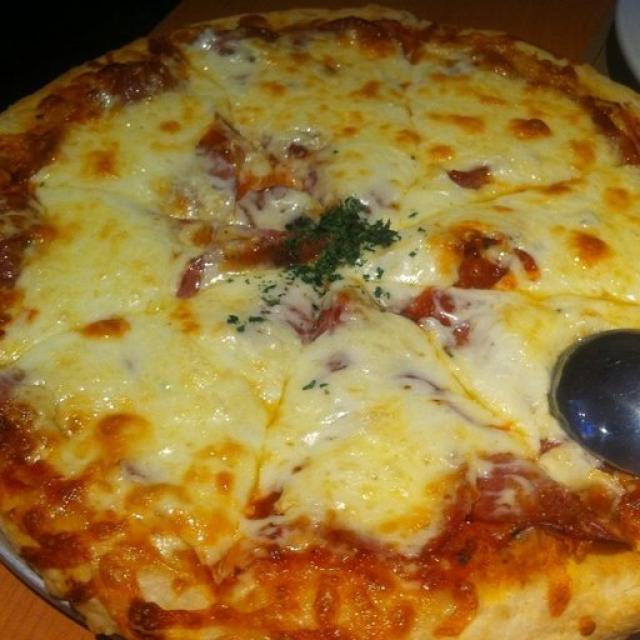Basil: (281, 193, 389, 287)
Pizza: (0, 9, 640, 640)
